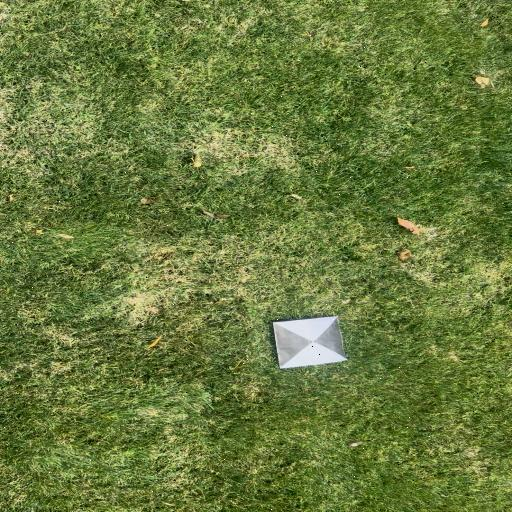target: (275, 316, 346, 368)
